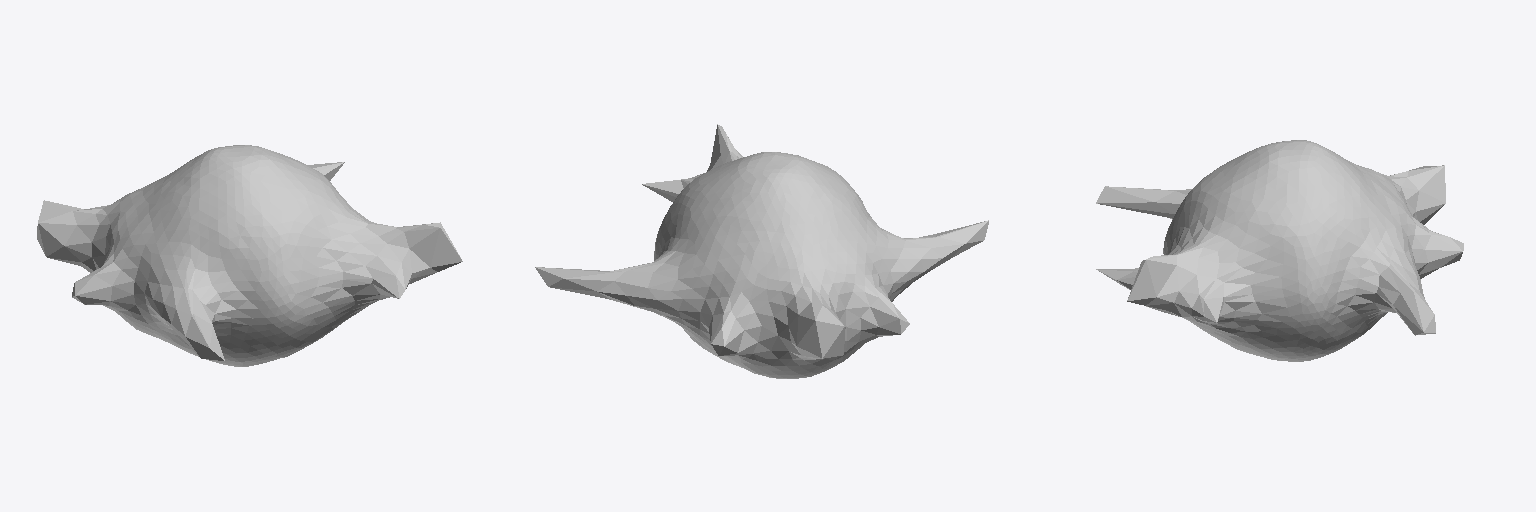
File: plane_rotZ45[0.3,0.0,0.3]s1[-1.7,0.0,-1.7]._00060.obj
3 renders of one model, left to right at view 1: azimuth 30°, elevation 25°; view 2: azimuth 150°, elevation 25°; view 3: azimuth 270°, elevation 25°, orthographic.
Size of the model in its own units: 1.12 by 0.6766 by 1.11.